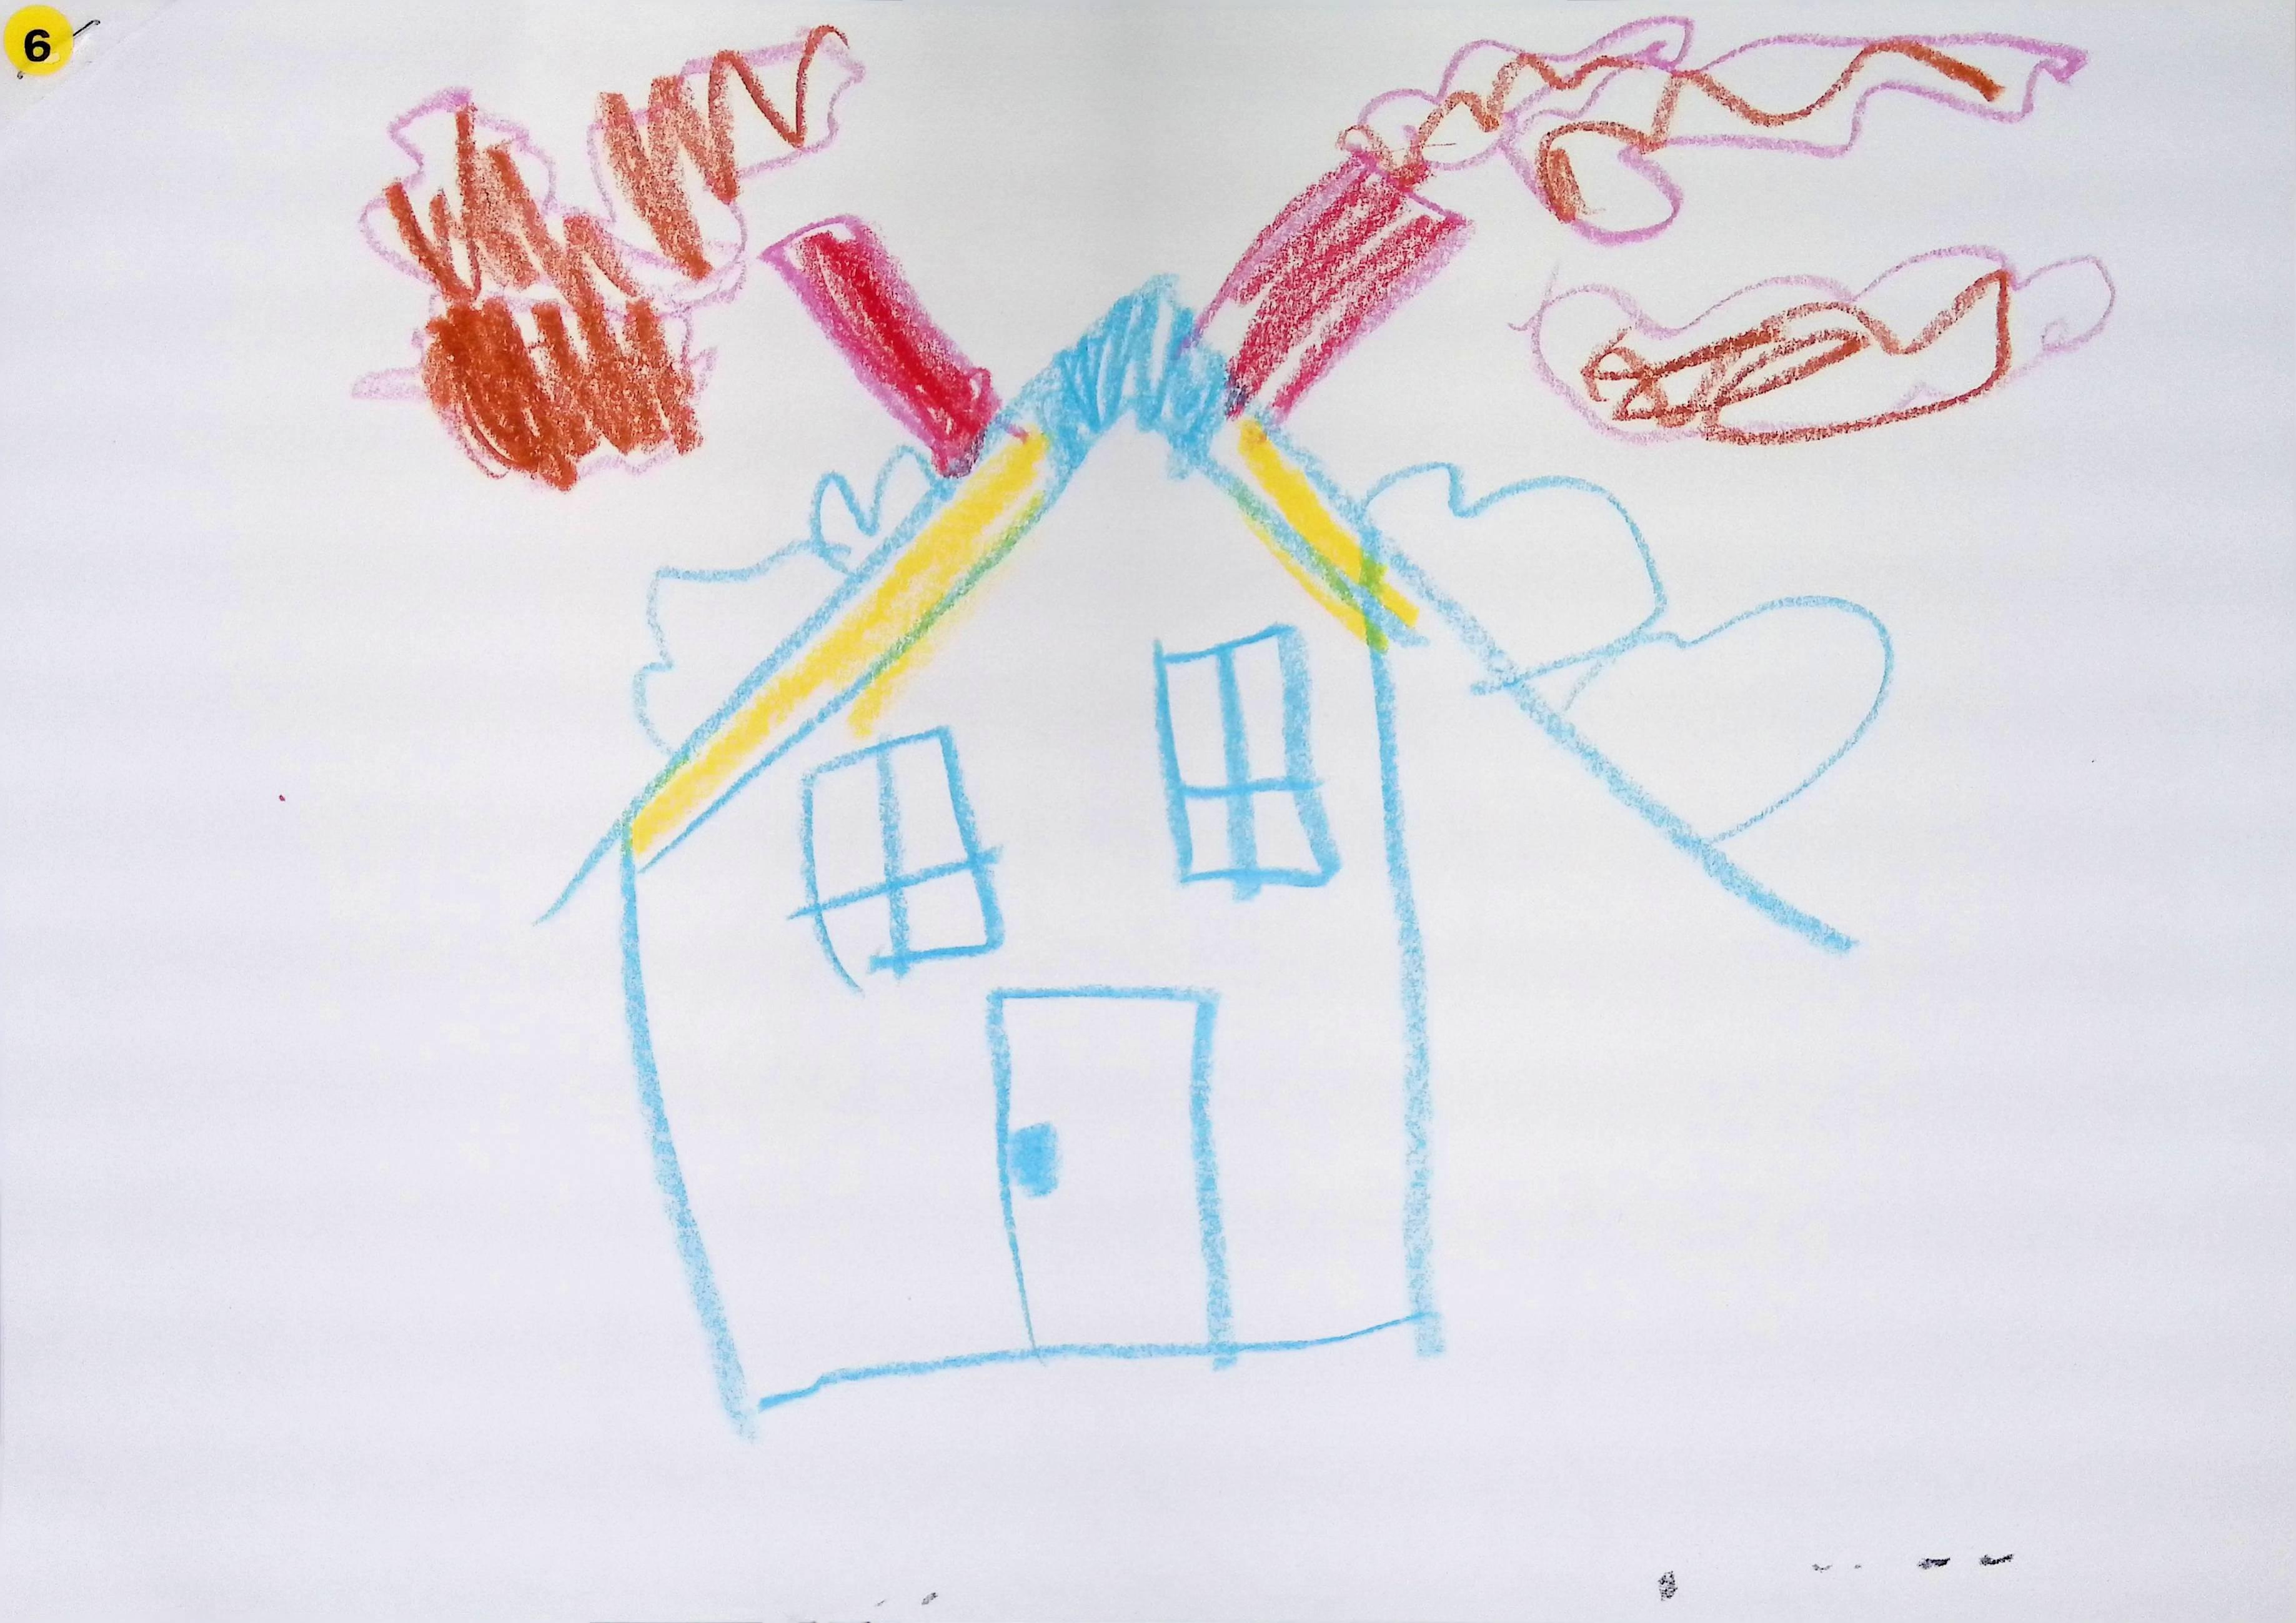chimney: (1202, 137, 1477, 427), (759, 216, 1001, 474)
door: (987, 985, 1238, 1365)
house: (585, 142, 1683, 1425)
roof: (543, 267, 1860, 957)
wall: (606, 430, 1423, 1430)
window: (794, 727, 1003, 987), (1156, 624, 1342, 899)
